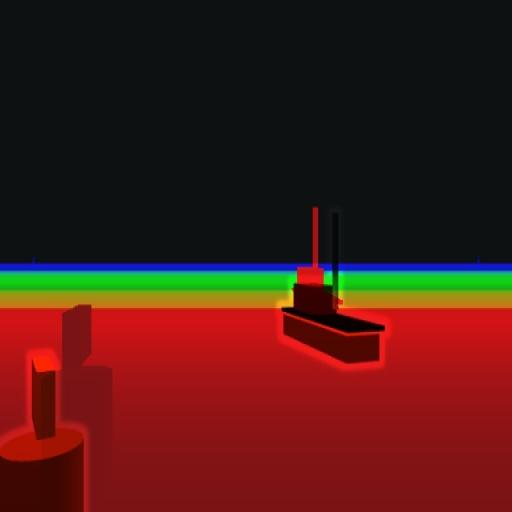vessel: (282, 226, 382, 366)
